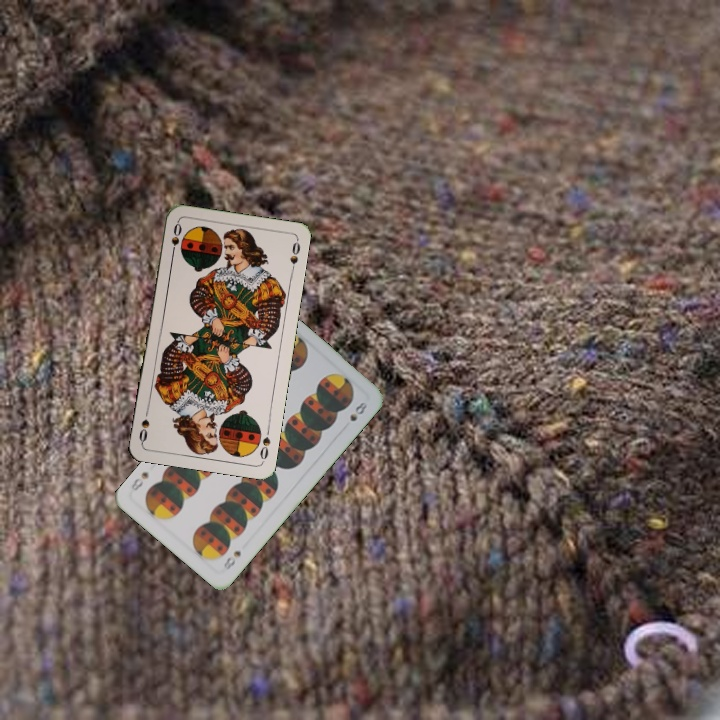S8: (220, 546, 244, 573)
SO: (256, 423, 273, 464), (167, 219, 184, 259)
